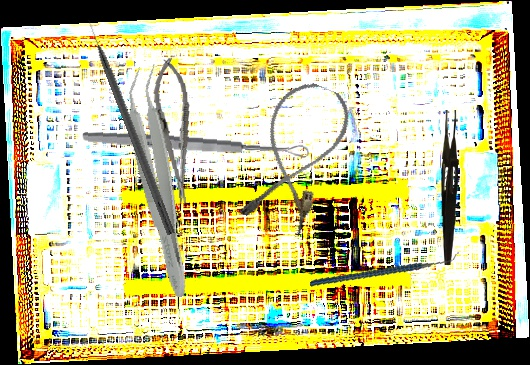Cannula: (233, 73, 359, 239)
Chopper: (309, 225, 460, 311)
Dressing Forceps: (439, 109, 460, 266)
Hook Surgical: (85, 17, 178, 236)
Needle Holder: (148, 56, 201, 206)
Surgical Spoon: (81, 129, 310, 160)
Tissue Forceps: (116, 63, 205, 301)
